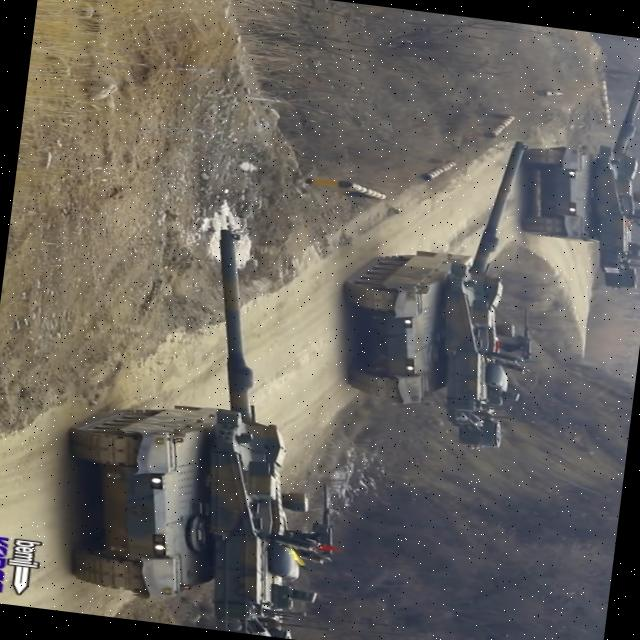korea tank: (326, 120, 558, 454)
